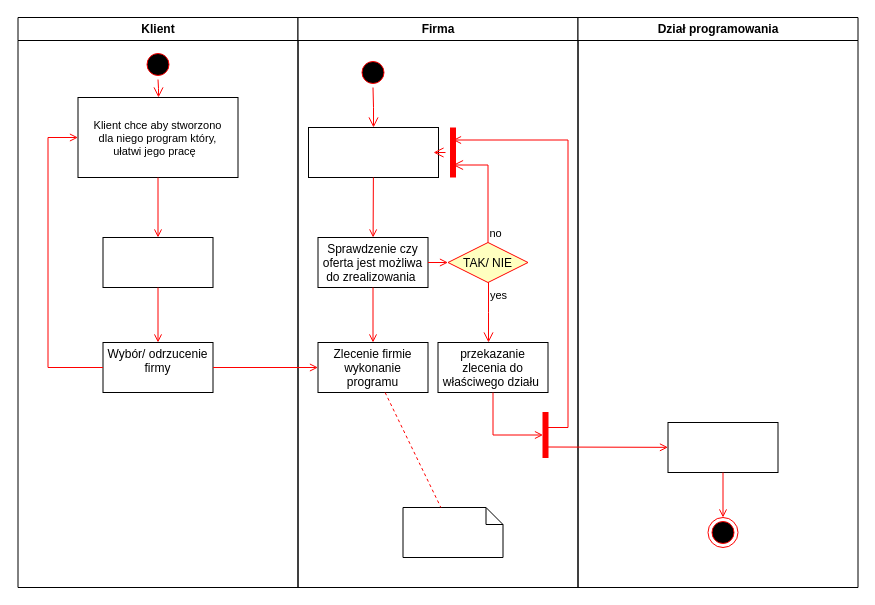
Image size: 875x605. Some labels were removed from this diagram. The centre of each missing label's shape, as x and y in pixels:
(Ponowne)/Zapoznanie się z życzeniem klienta: (373,152)
tworzenie programu: (722,447)
Wstępne ustalenia: (452,532)
Wyszukanie firmy, która przyjmie zlecenie: (157,262)
